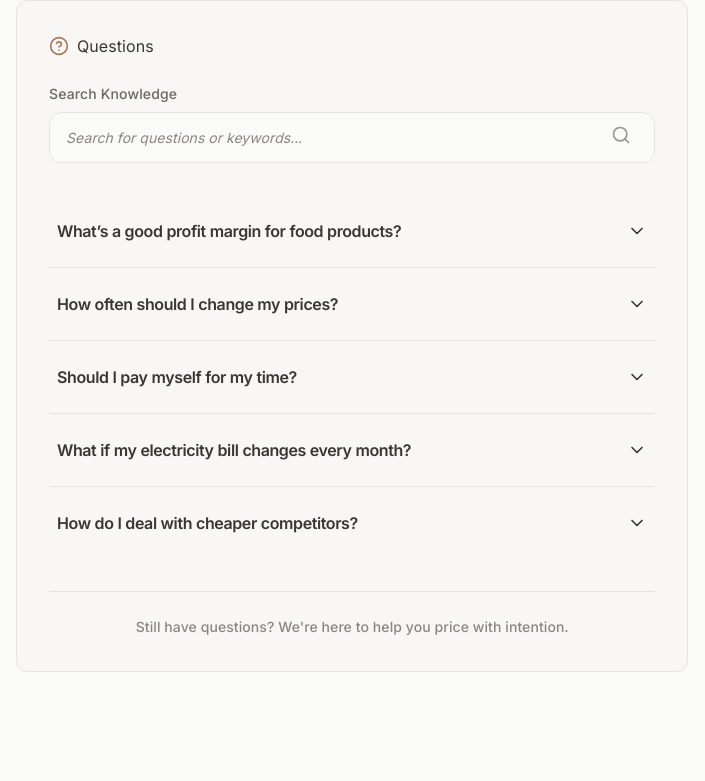
Test: FAQ › only one item is expanded at a time
Click the button "What’s a good profit margin for food products?".
click(352, 231)  # box left=49, top=195, right=655, bottom=267
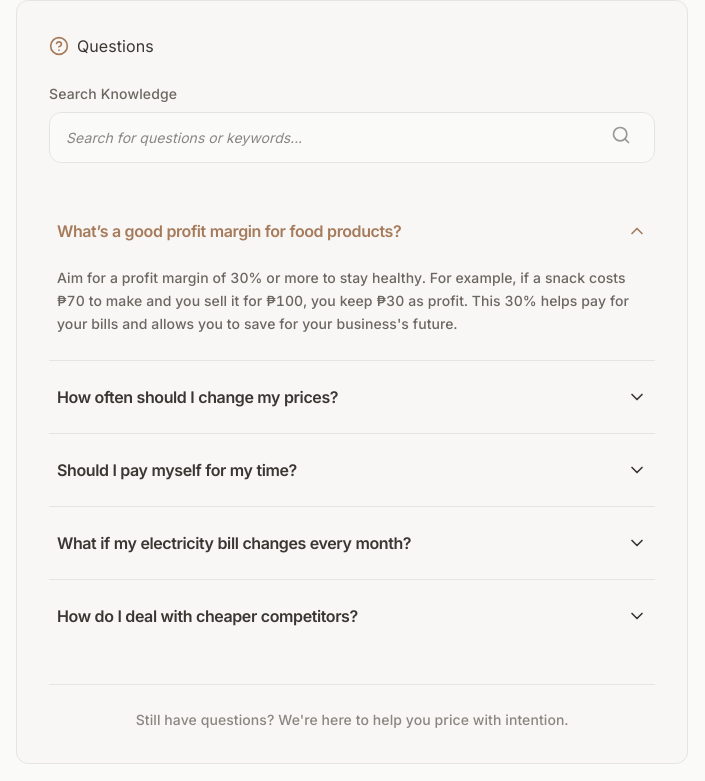
Expected: the button "What’s a good profit margin for food products?" is expanded, left=49, top=195, right=655, bottom=267
Click the button "How often should I change my prices?".
click(198, 397)  # box left=49, top=361, right=655, bottom=433
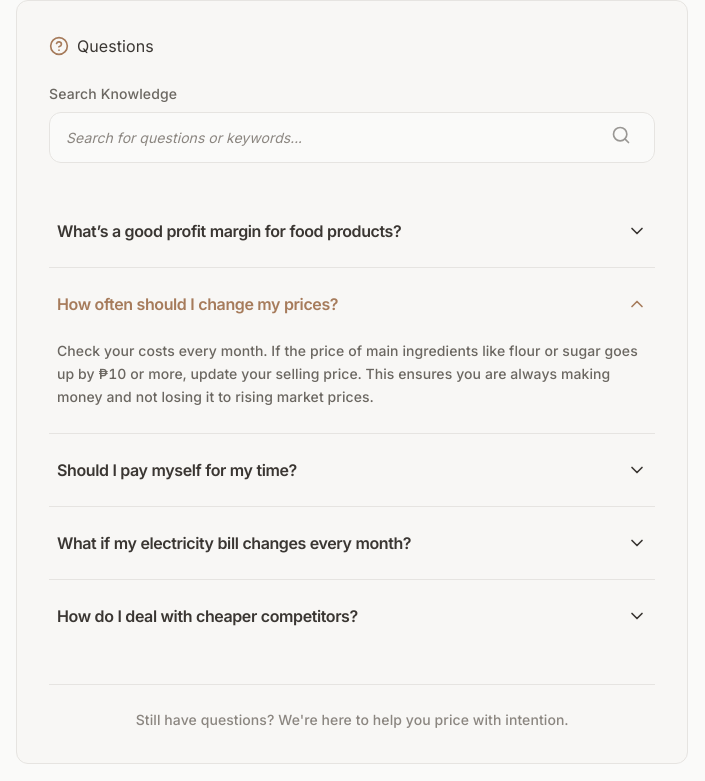
Expected: the button "What’s a good profit margin for food products?" is collapsed, left=49, top=195, right=655, bottom=267
Expected: the button "How often should I change my prices?" is expanded, left=49, top=268, right=655, bottom=340
